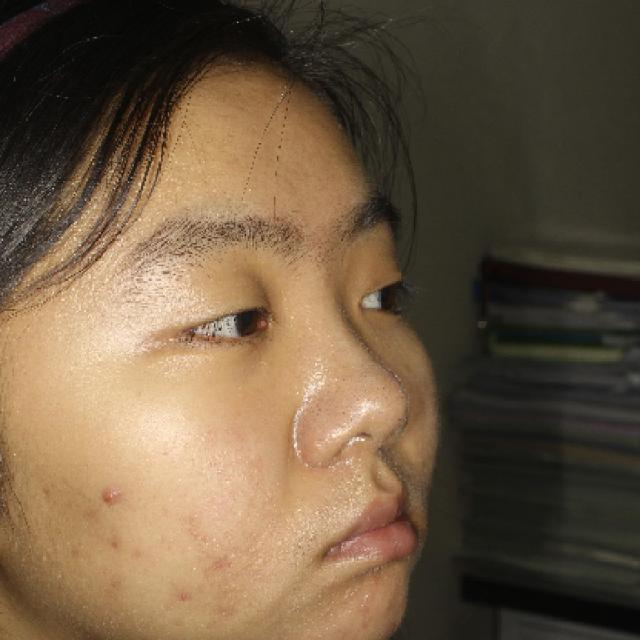Acne: (92, 480, 130, 514), (166, 582, 203, 609), (103, 528, 134, 556)
